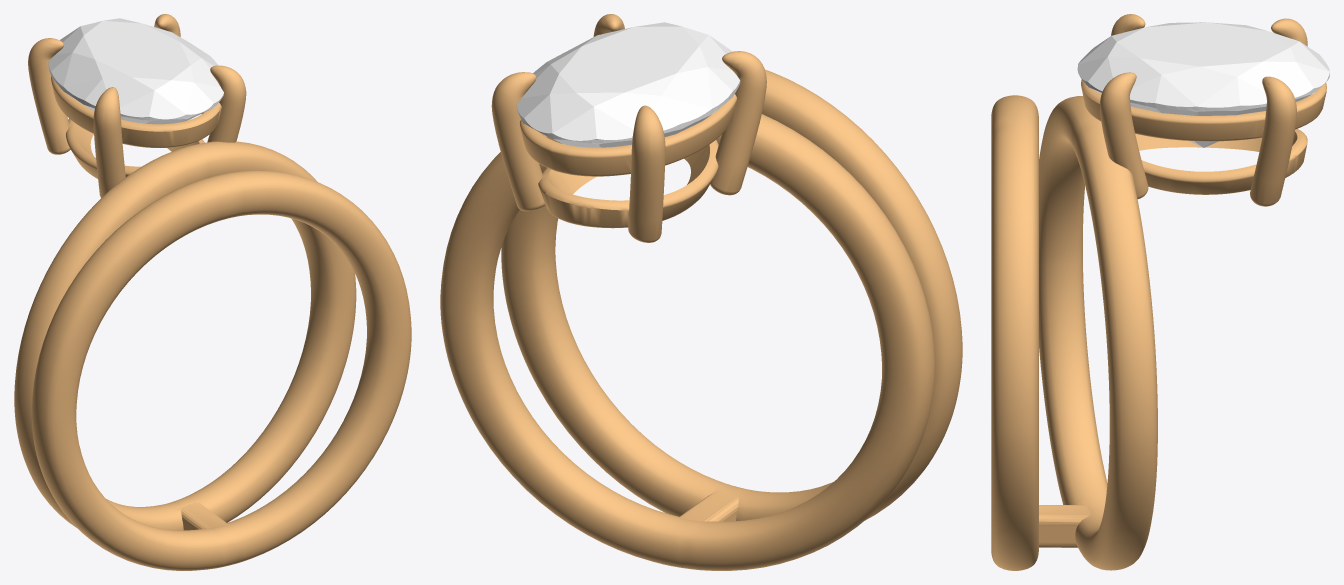
3 views of the same model, side by side, from view 1: azimuth 30°, elevation 25°; view 2: azimuth 150°, elevation 25°; view 3: azimuth 270°, elevation 25° (orthographic). The views are drawn at different scales.
Bounding box in the file's own units: 2.37 × 2.75 × 1.68.
